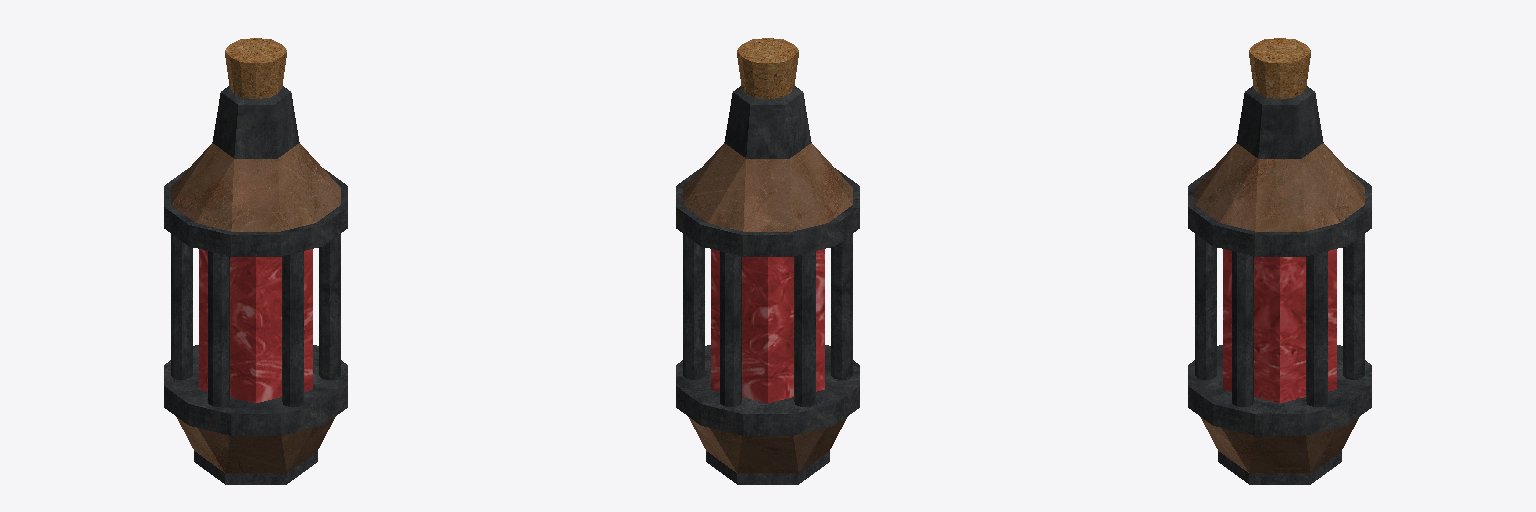
3 views of the same model, side by side, from view 1: azimuth 30°, elevation 25°; view 2: azimuth 150°, elevation 25°; view 3: azimuth 270°, elevation 25° (orthographic).
Parts seen in each view (by area): view 1: skin; view 2: skin; view 3: skin.
Boxes of the visible parts, x1,y1,x2,y2 form: skin: [164, 38, 347, 484]; skin: [676, 38, 859, 484]; skin: [1188, 38, 1371, 484].
Size of the model in its own units: 2.98 by 7.35 by 2.98.
1 materials, 1 textured.